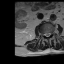CCS_stenosis: (46, 31, 48, 37)
LFS_stenosis: (50, 31, 52, 36)
LLS_normal: (48, 32, 50, 36)
RFS_normal: (42, 32, 44, 37)
RLS_normal: (44, 31, 46, 37)
